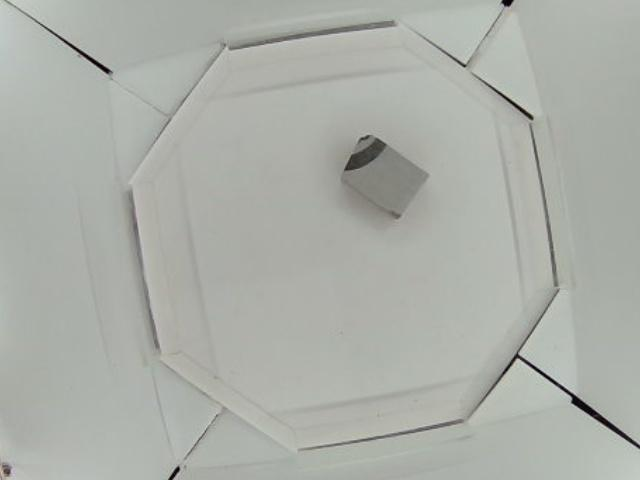China: (344, 135, 428, 219)
